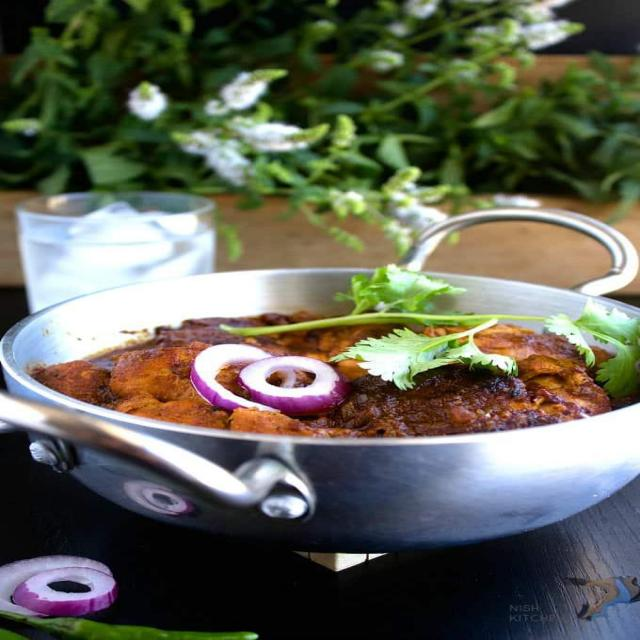chicken: (23, 313, 640, 421)
